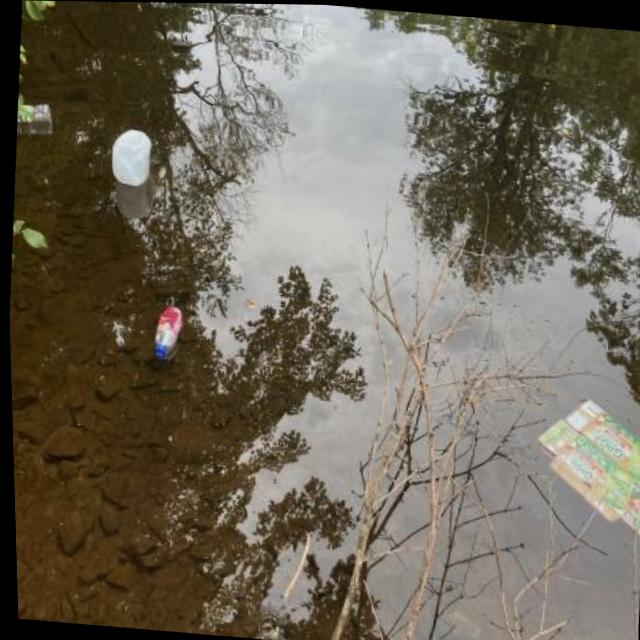Cardboard: (526, 386, 640, 544)
Plastic: (103, 120, 159, 191), (144, 297, 189, 365), (15, 96, 60, 134)
